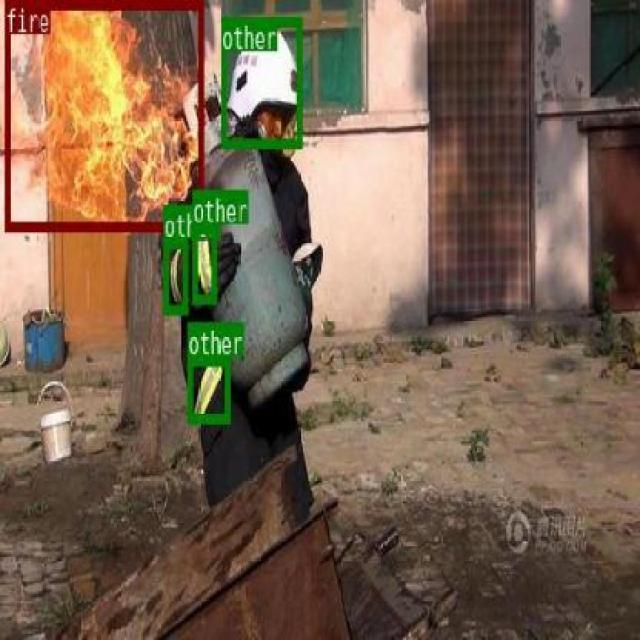Fire: (5, 0, 204, 228)
